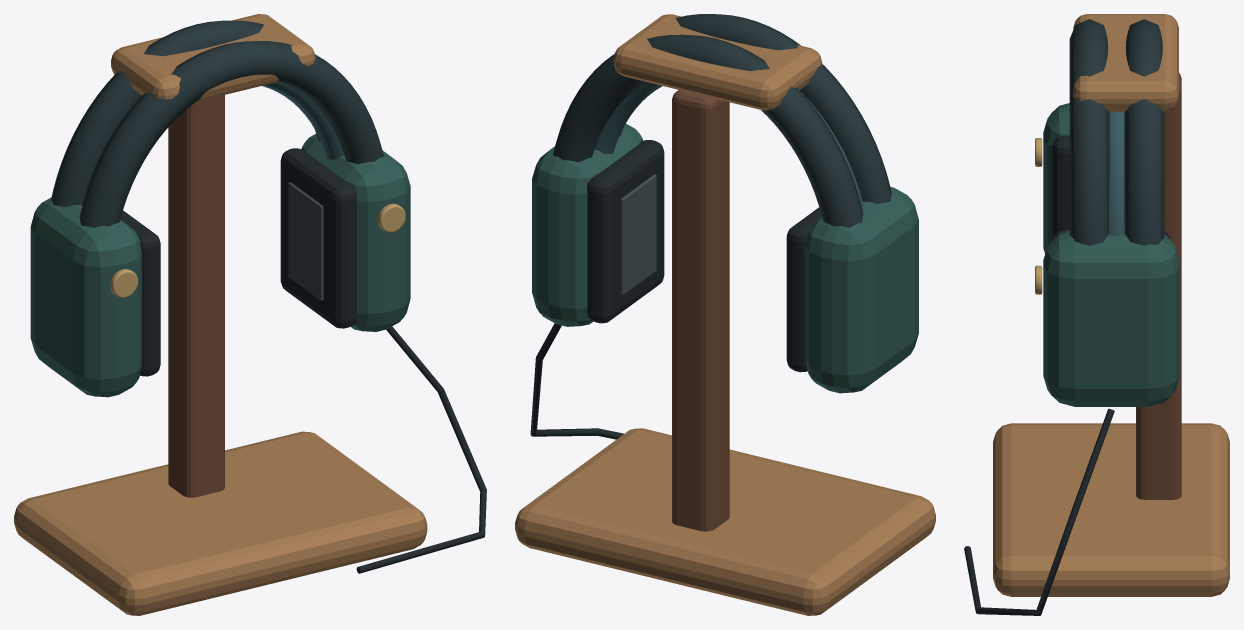
Rendered from headphone_stand.glb.
The picture shows the model from 3 angles, left to right: view 1: azimuth 30°, elevation 25°; view 2: azimuth 150°, elevation 25°; view 3: azimuth 270°, elevation 25°; orthographic projection. The views are drawn at different scales.
Parts seen in each view (by area): view 1: Oak, Enamel_pine, Charcoal_soft, Walnut, Rubber, Graphite, Leather_teal, Brass_satin; view 2: Oak, Enamel_pine, Walnut, Charcoal_soft, Rubber, Graphite, Leather_teal; view 3: Oak, Enamel_pine, Charcoal_soft, Walnut, Rubber, Leather_teal, Brass_satin.
Boxes of the visible parts, x1,y1,x2,y2 form: Oak: (14,14,427,615); Enamel_pine: (30,134,410,397); Charcoal_soft: (51,20,383,227); Walnut: (168,95,224,497); Rubber: (120,148,486,573); Graphite: (288,182,323,300); Leather_teal: (82,82,344,205); Brass_satin: (110,203,405,297); Oak: (515,14,935,615); Enamel_pine: (532,123,918,393); Walnut: (672,90,729,531); Charcoal_soft: (553,14,891,227); Rubber: (530,140,821,439); Graphite: (620,174,656,294); Leather_teal: (594,82,862,204); Oak: (993,14,1229,596); Enamel_pine: (1043,103,1179,406); Charcoal_soft: (1069,19,1164,245); Walnut: (1136,73,1181,499); Rubber: (964,136,1169,615); Leather_teal: (1109,111,1124,235); Brass_satin: (1035,138,1042,294).
Bounding box in the file's own units: 0.2455 × 0.301 × 0.146.
